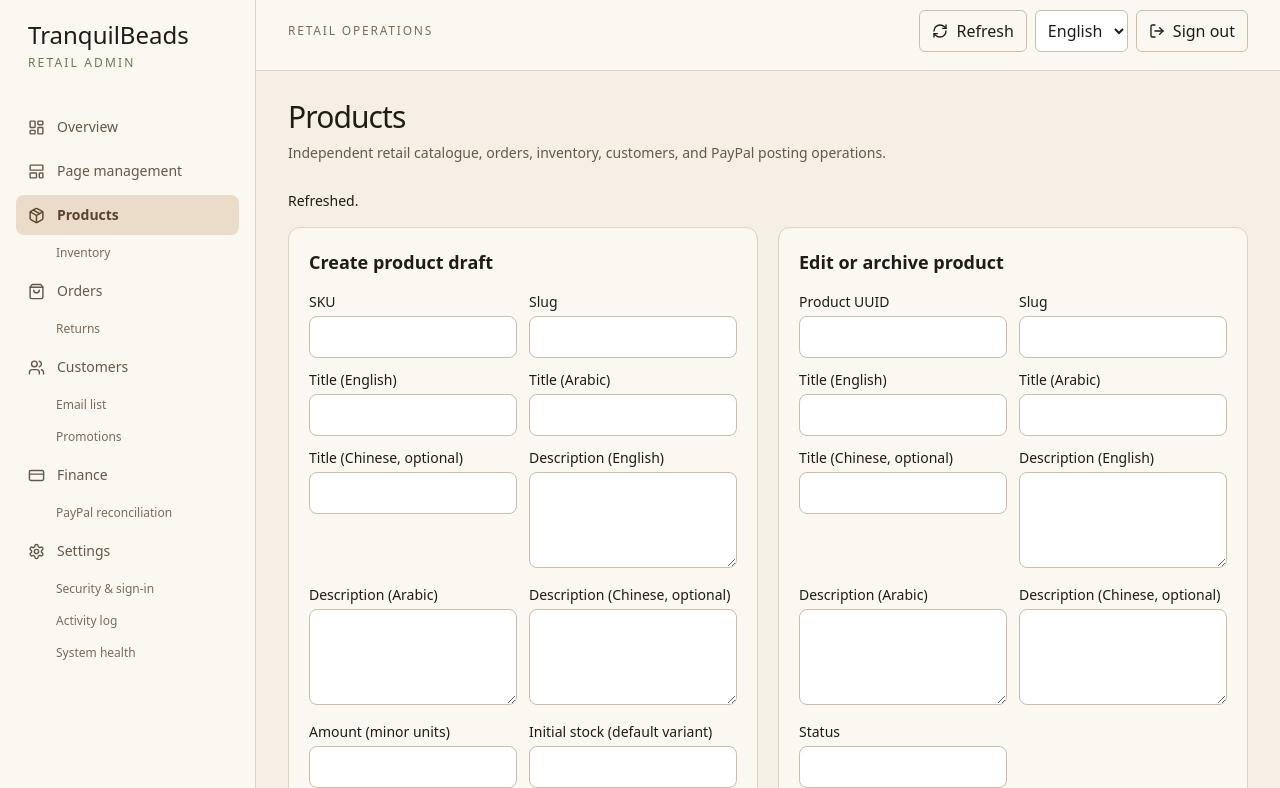
retail admin console › switches the complete admin shell and form labels to Chinese and persists the choice
Step 1. Select "中文" in the dropdown named "Language" → [1081, 30], box top-left (1035, 10), bottom-right (1128, 52)
(page scrolled)
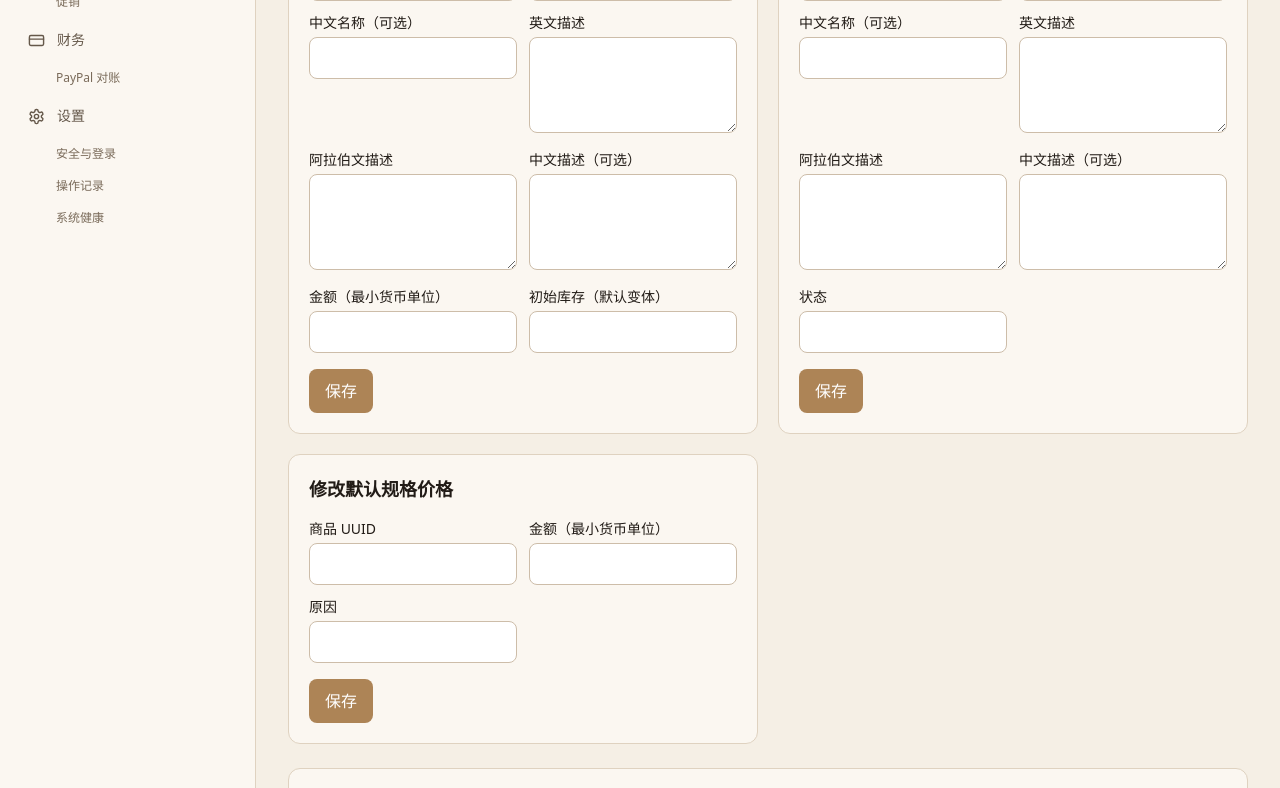
Now the button "保存" below "初始库存（默认变体）" is shown, box top-left (309, 369), bottom-right (373, 413)
